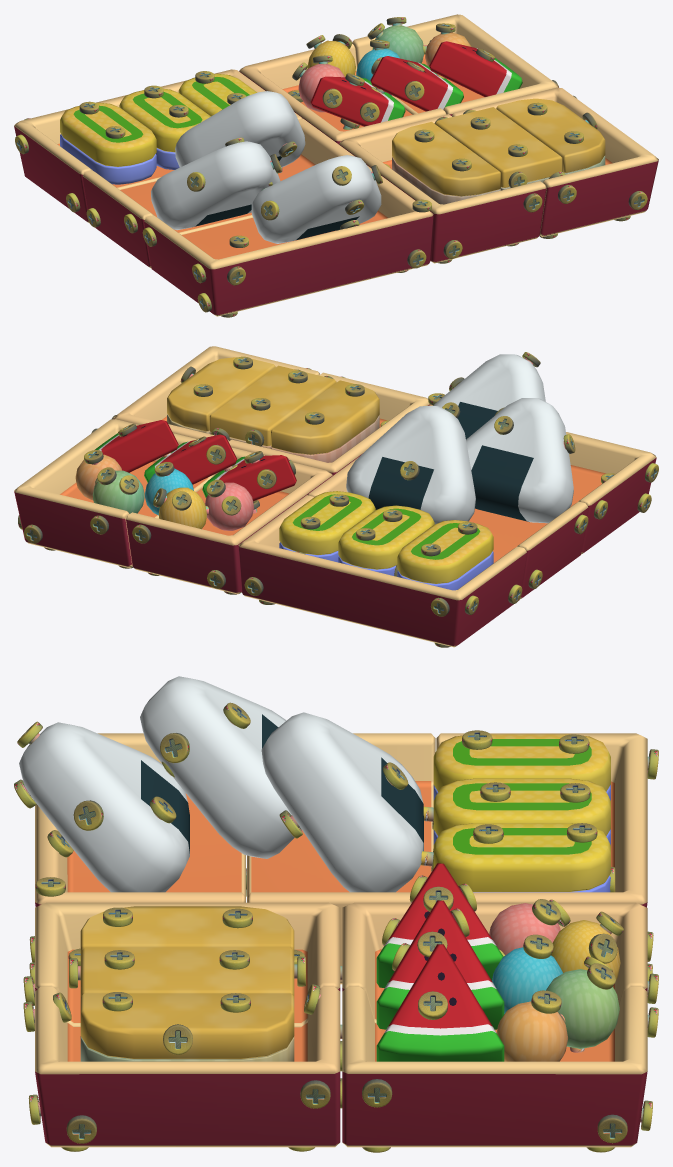
The model's file is lvl_48.fbx.
The picture shows the model from 3 angles, top to bottom: view 1: azimuth 30°, elevation 25°; view 2: azimuth 150°, elevation 25°; view 3: azimuth 270°, elevation 25°; orthographic projection. The views are drawn at different scales.
Visible parts, largest first — view 1: Cube_L1_12, Cube_L1_17, Cube_L1_16, Cube_L1_6, Cube_L1, Cube_L1_13, Cube_L1_7, Cube_L1_11, Cube_L1_25, Cube_L1_22, Cube_L1_14, Cube_L1_18 (+14 smaller); view 2: Cube_L1_11, Cube_L1_6, Cube_L1_7, Cube_L1_14, Cube_L1_15, Cube_L1_12, Cube_L1_13, Cube_L1_25, Cube_L1, Cube_L1_22, Cube_L1_18, Cube_L1_24 (+14 smaller); view 3: Cube_L1_14, Cube_L1_16, Cube_L1_7, Cube_L1, Cube_L1_6, Cube_L1_24, Cube_L1_20, Cube_L1_17, Cube_L1_12, Cube_L1_22, Cube_L1_13, Cube_L1_15 (+22 smaller).
Boxes of the visible parts, x1,y1,x2,y2 form: Cube_L1_12: [144, 165, 433, 316]; Cube_L1_17: [339, 114, 546, 263]; Cube_L1_16: [451, 87, 658, 237]; Cube_L1_6: [151, 141, 280, 230]; Cube_L1: [251, 155, 381, 243]; Cube_L1_13: [82, 119, 354, 268]; Cube_L1_7: [175, 91, 305, 167]; Cube_L1_11: [14, 69, 303, 223]; Cube_L1_25: [392, 121, 500, 196]; Cube_L1_22: [435, 107, 562, 187]; Cube_L1_14: [352, 14, 558, 115]; Cube_L1_18: [60, 102, 156, 166]; Cube_L1_11: [238, 495, 526, 647]; Cube_L1_6: [466, 398, 573, 523]; Cube_L1_7: [346, 406, 475, 524]; Cube_L1_14: [14, 419, 214, 567]; Cube_L1_15: [126, 447, 332, 594]; Cube_L1_12: [429, 404, 656, 554]; Cube_L1_13: [307, 457, 588, 599]; Cube_L1_25: [271, 380, 379, 454]; Cube_L1: [433, 354, 545, 439]; Cube_L1_22: [209, 365, 336, 446]; Cube_L1_18: [397, 520, 493, 583]; Cube_L1_24: [167, 357, 275, 431]; Cube_L1_14: [342, 986, 647, 1147]; Cube_L1_16: [35, 986, 340, 1147]; Cube_L1_7: [261, 712, 423, 892]; Cube_L1: [19, 722, 189, 892]; Cube_L1_6: [140, 676, 301, 858]; Cube_L1_24: [80, 993, 294, 1058]; Cube_L1_20: [433, 823, 610, 891]; Cube_L1_17: [35, 902, 340, 1027]; Cube_L1_12: [35, 733, 245, 906]; Cube_L1_22: [80, 947, 294, 996]; Cube_L1_13: [247, 733, 435, 984]; Cube_L1_15: [342, 902, 647, 1023].
Size of the model in its own units: 5.24 by 1.51 by 4.12.
